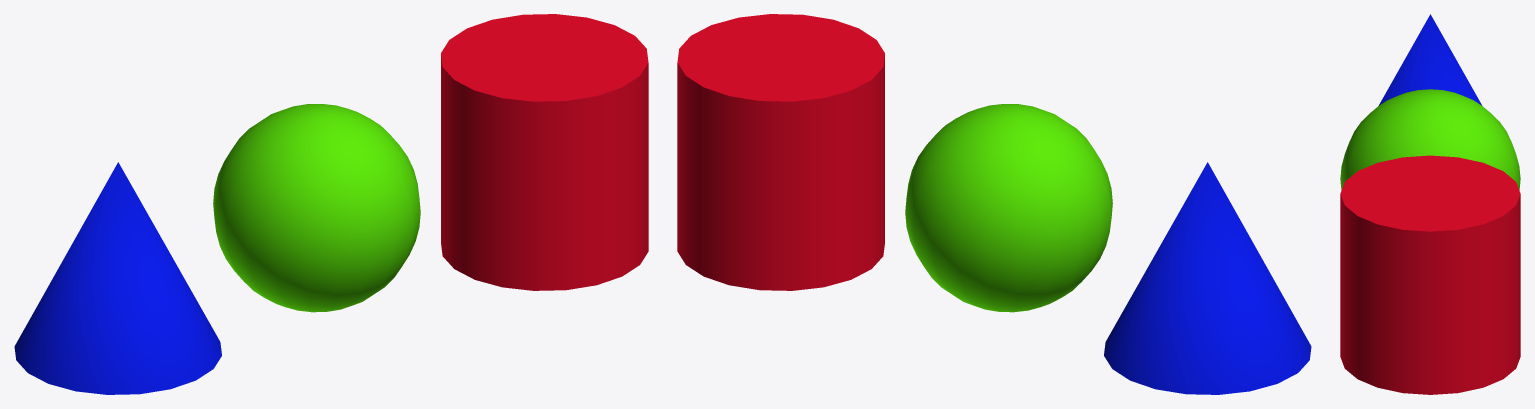
The model's file is MultiMaterial.fbx.
3 renders of one model, left to right at view 1: azimuth 30°, elevation 25°; view 2: azimuth 150°, elevation 25°; view 3: azimuth 270°, elevation 25°, orthographic. The views are drawn at different scales.
Parts seen in each view (by area): view 1: pCone2; view 2: pCone2; view 3: pCone2.
Part boxes in pixels (x1,y1,x2,y2): pCone2: [14, 14, 648, 394]; pCone2: [677, 14, 1311, 394]; pCone2: [1340, 14, 1520, 394].
Bounding box in the file's own units: 6.72 × 2 × 2.
